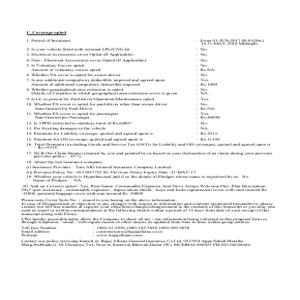text: (14, 28, 276, 249)
